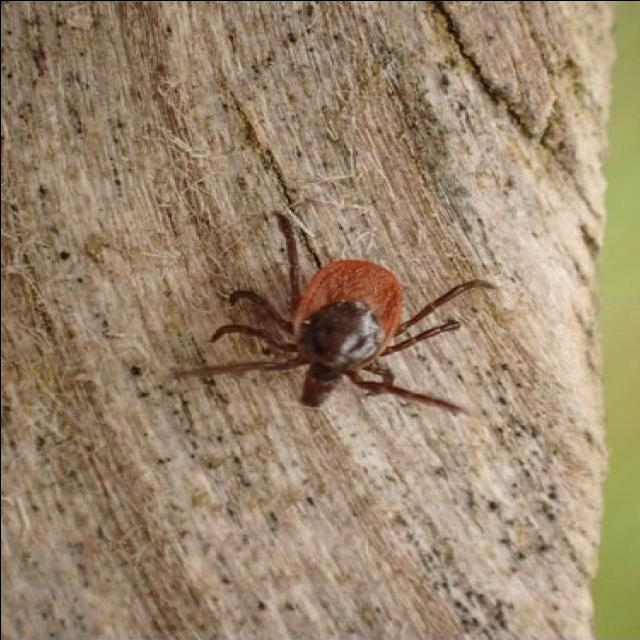Ixodes Ricinus-F-Fed: (176, 212, 497, 415)
